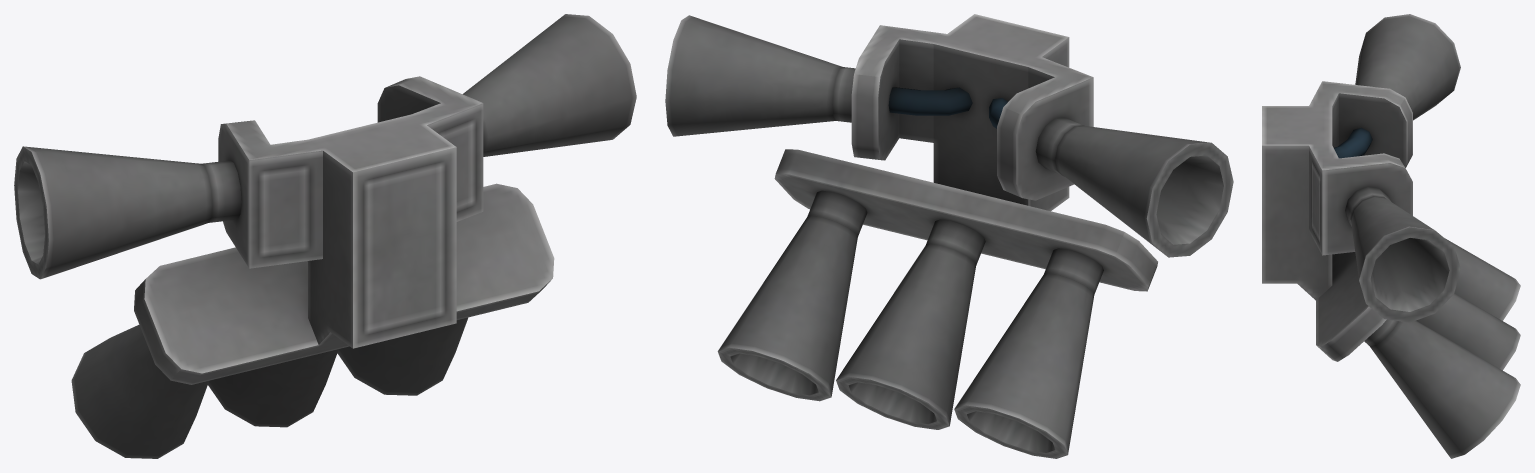
The model's file is inverted.obj.
The picture shows the model from 3 angles, left to right: view 1: azimuth 30°, elevation 25°; view 2: azimuth 150°, elevation 25°; view 3: azimuth 270°, elevation 25°; orthographic projection. The views are drawn at different scales.
Parts seen in each view (by area): view 1: i; view 2: i; view 3: i.
Part boxes in pixels (x1,y1,x2,y2): i: (14,14,636,458); i: (665,14,1233,458); i: (1262,14,1520,458).
Bounding box in the file's own units: 0.5672 × 0.3323 × 0.276.
Materials: 1 (1 with a texture image).
